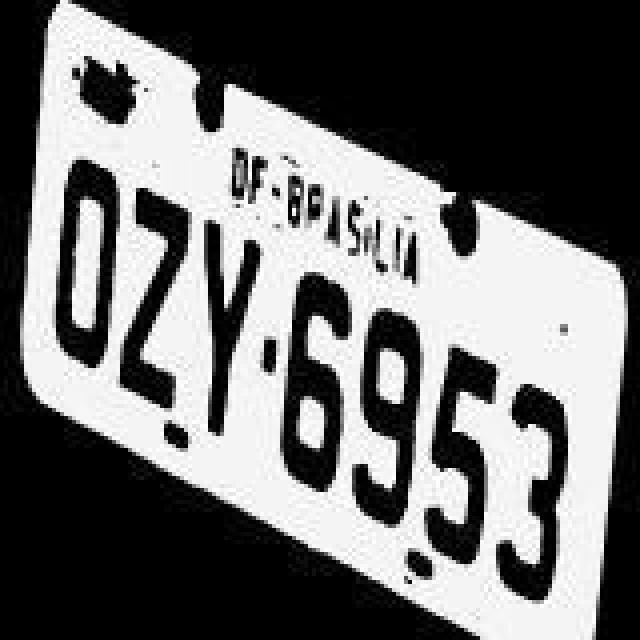3: (498, 370, 574, 606)
5: (420, 326, 500, 570)
6: (282, 258, 358, 502)
9: (356, 284, 428, 532)
O: (48, 152, 128, 392)
Y: (194, 210, 262, 462)
Z: (118, 184, 194, 432)
